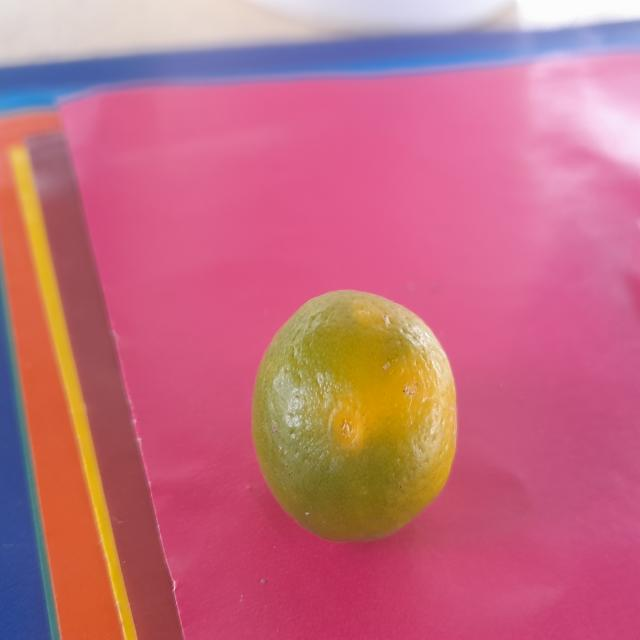greening: (255, 288, 462, 538)
